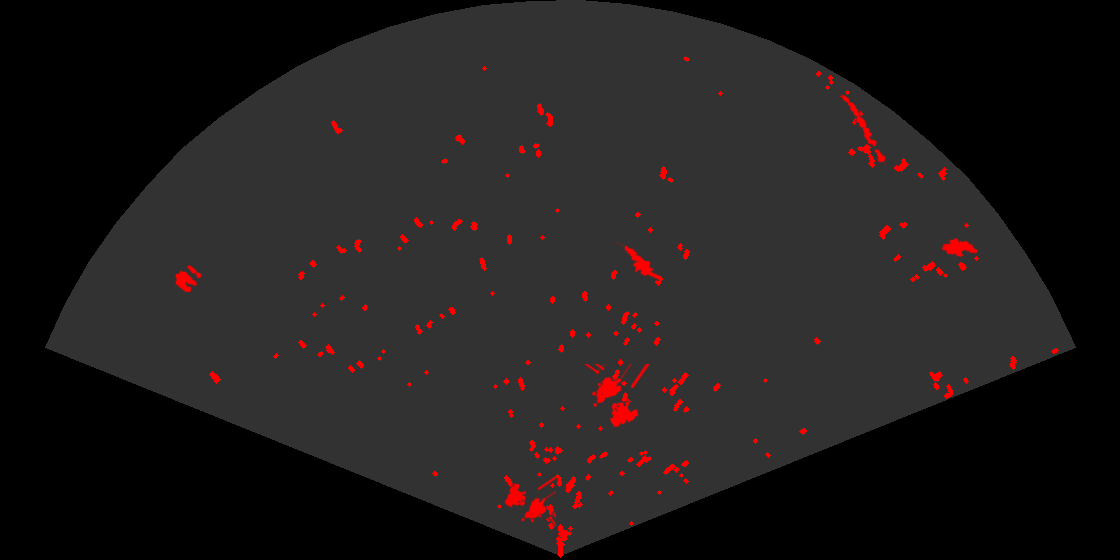AUV: (940, 236, 980, 259)
ball: (174, 264, 203, 294)
cage: (583, 364, 651, 429), (503, 474, 556, 529)
chain: (840, 93, 888, 166)
frogman: (614, 242, 659, 281)
